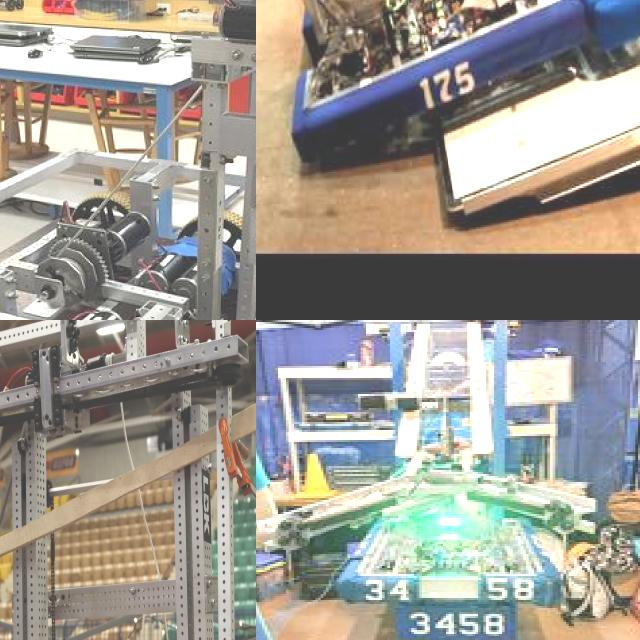FRC-Robots: (270, 384, 634, 640), (0, 0, 256, 320), (256, 0, 568, 174)
